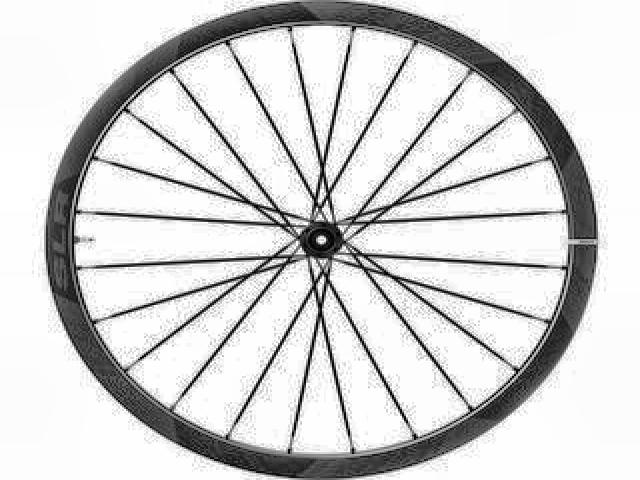wheel: (47, 2, 603, 480)
